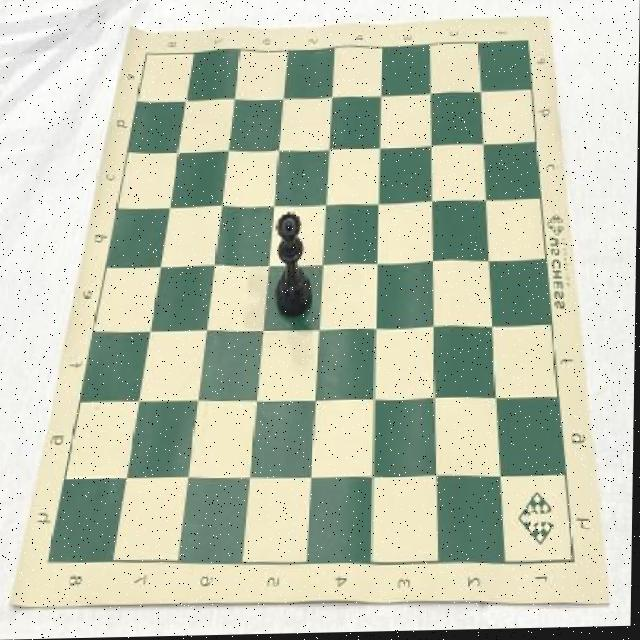black-pawn: (274, 213, 314, 322)
